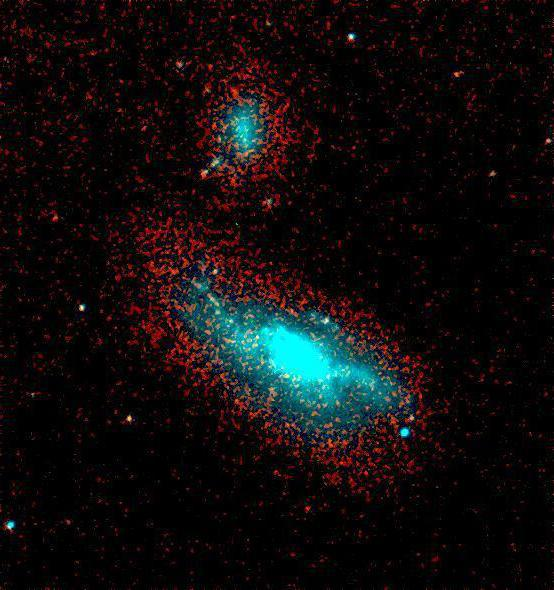star: (293, 495, 323, 525)
